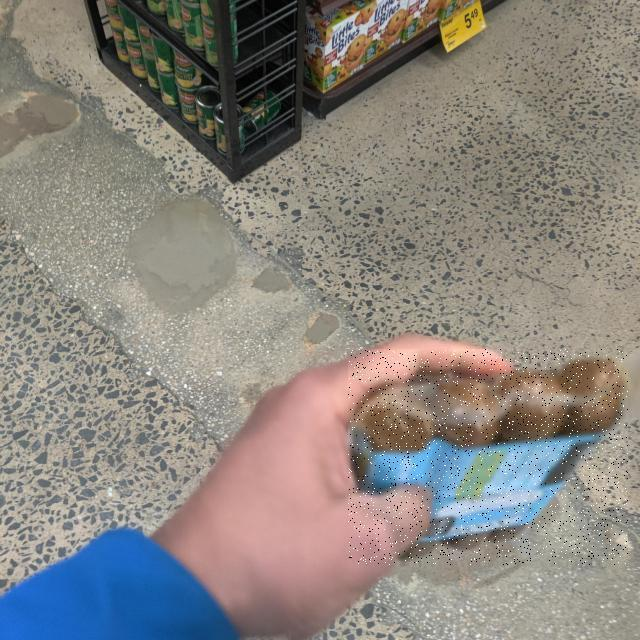Meat: (348, 350, 628, 566)
